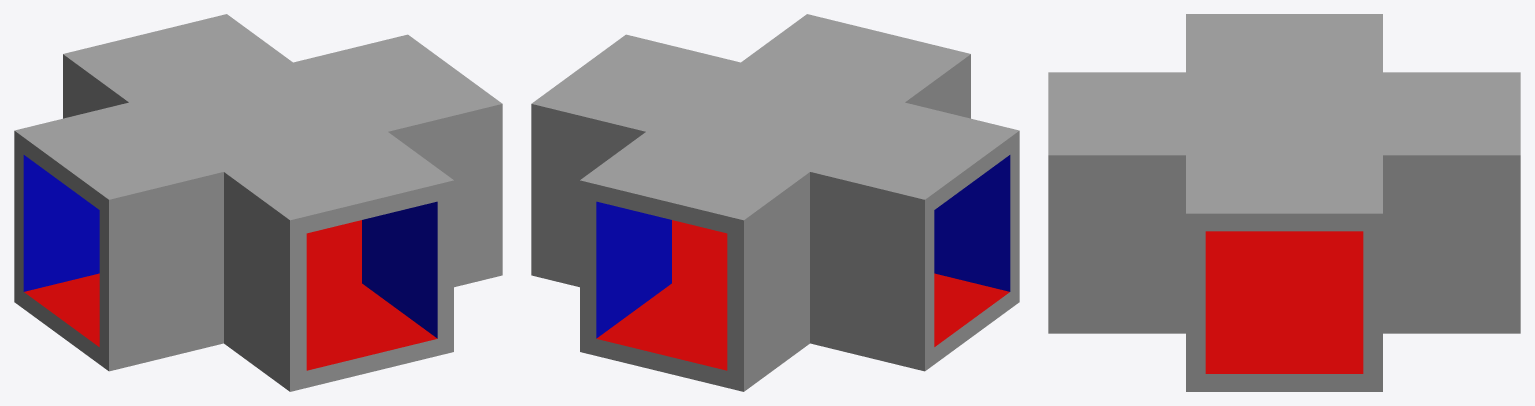
File: Cross.fbx
3 views of the same model, side by side, from view 1: azimuth 30°, elevation 25°; view 2: azimuth 150°, elevation 25°; view 3: azimuth 270°, elevation 25° (orthographic). The views are drawn at different scales.
Parts seen in each view (by area): view 1: Cross_hollow; view 2: Cross_hollow; view 3: Cross_hollow.
Boxes of the visible parts, x1=… form: Cross_hollow: x1=14, y1=14, x2=502, y2=391; Cross_hollow: x1=531, y1=14, x2=1019, y2=391; Cross_hollow: x1=1048, y1=14, x2=1520, y2=391.
Size of the model in its own units: 12 by 5 by 12.
